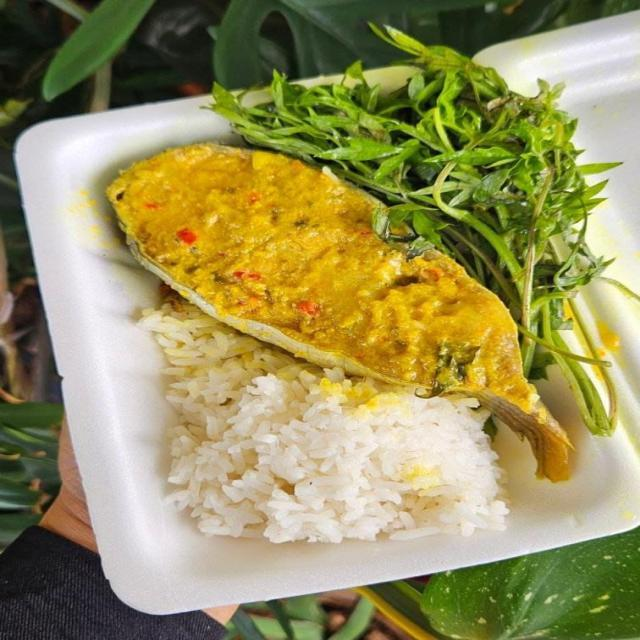Fish: (104, 142, 575, 486)
Plate: (18, 98, 639, 601)
Rice: (135, 286, 516, 545)
Vegetables: (201, 22, 639, 437)
